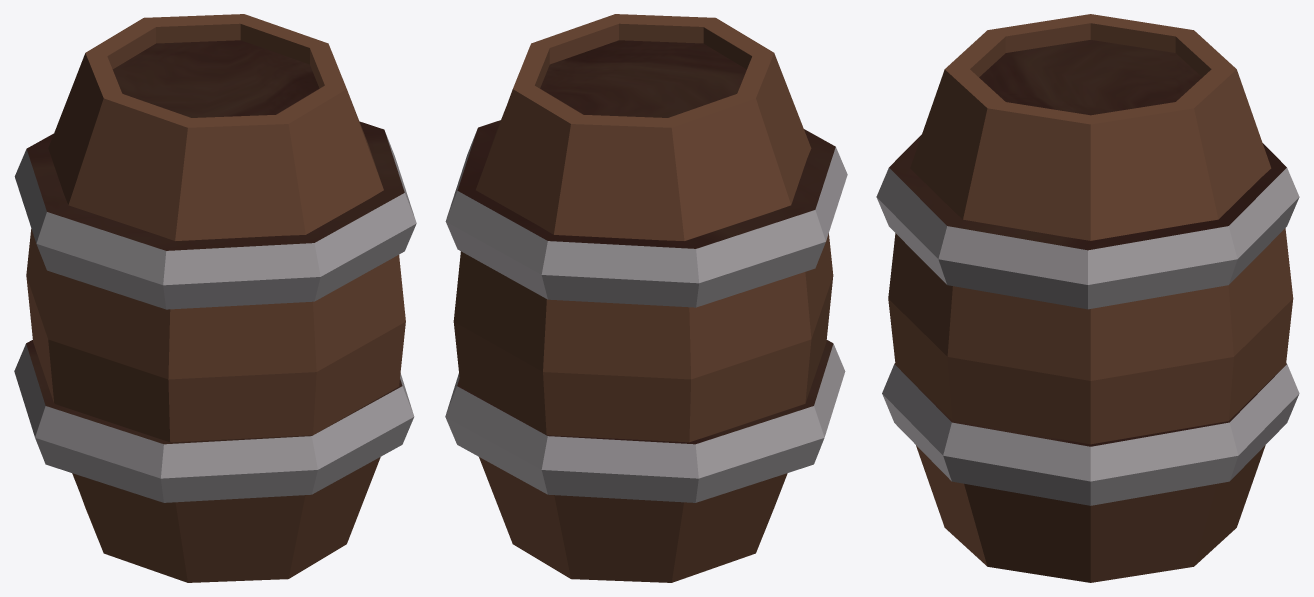
The model's file is broken_FlaskSquare.fbx_floor3.fbx_Props.fbx.
3 renders of one model, left to right at view 1: azimuth 30°, elevation 25°; view 2: azimuth 150°, elevation 25°; view 3: azimuth 270°, elevation 25°, orthographic.
Parts seen in each view (by area): view 1: Cylinder; view 2: Cylinder; view 3: Cylinder.
Boxes of the visible parts, x1,y1,x2,y2 form: Cylinder: (14,14,416,582); Cylinder: (445,14,847,582); Cylinder: (876,14,1299,582).
Bounding box in the file's own units: 62.9 × 76.29 × 63.82.
